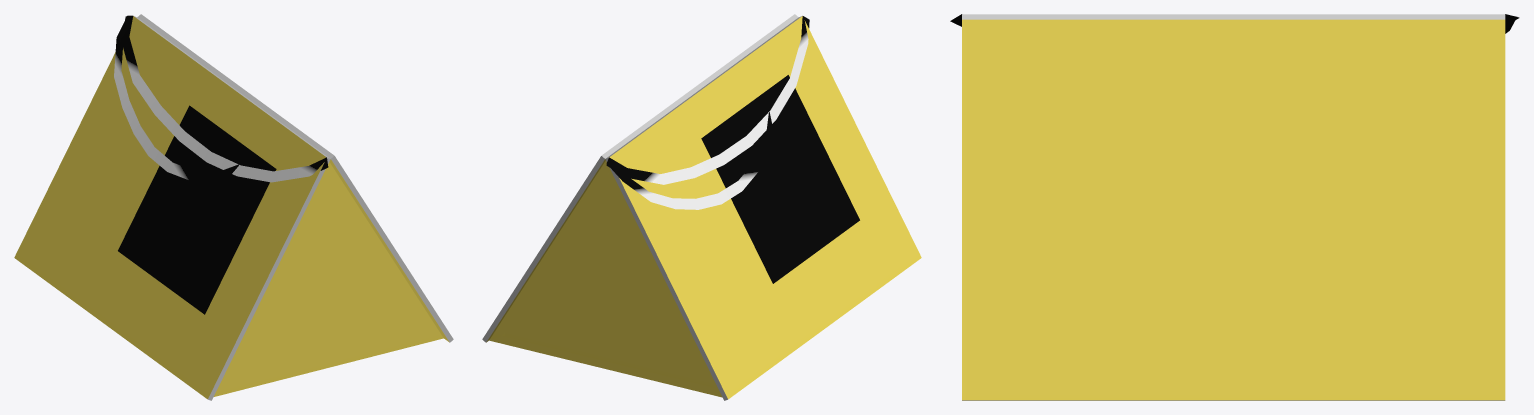
Rendered from SM_Tent_001.fbx.
3 views of the same model, side by side, from view 1: azimuth 30°, elevation 25°; view 2: azimuth 150°, elevation 25°; view 3: azimuth 270°, elevation 25° (orthographic). The views are drawn at different scales.
Visible parts, largest first — view 1: SM_Tent_001; view 2: SM_Tent_001, SM_Door_001; view 3: SM_Tent_001.
Part boxes in pixels (x1,y1,x2,y2): SM_Tent_001: [14, 14, 453, 400]; SM_Tent_001: [482, 14, 921, 400]; SM_Door_001: [502, 172, 713, 387]; SM_Tent_001: [950, 14, 1519, 400].
Bounding box in the file's own units: 27.31 × 22.86 × 39.01.
